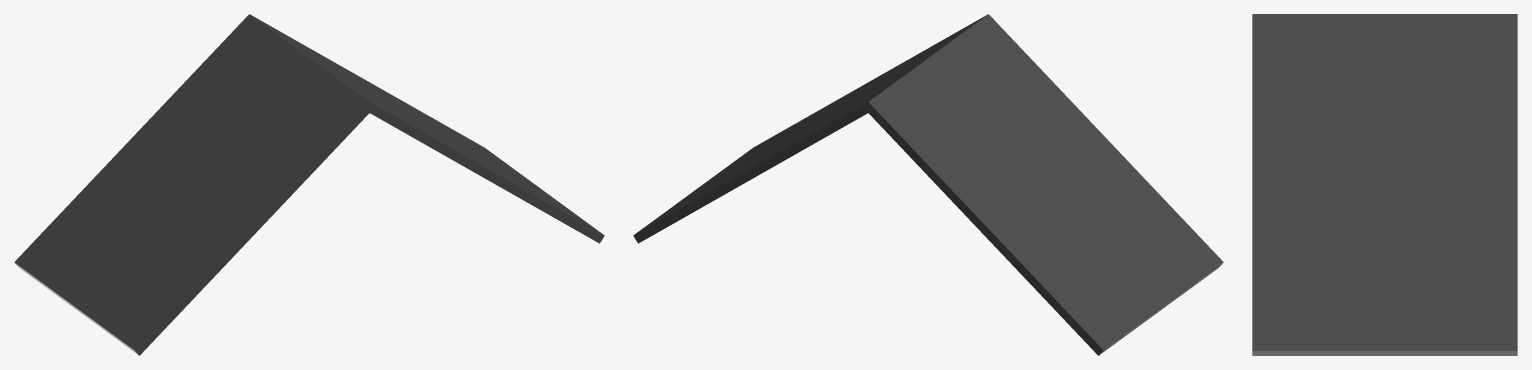
The model's file is Roof1_C3_01.fbx.
3 renders of one model, left to right at view 1: azimuth 30°, elevation 25°; view 2: azimuth 150°, elevation 25°; view 3: azimuth 270°, elevation 25°, orthographic. The views are drawn at different scales.
Visible parts, largest first — view 1: Roof1_C3_01; view 2: Roof1_C3_01; view 3: Roof1_C3_01.
Part boxes in pixels (x1,y1,x2,y2): Roof1_C3_01: (14,14,604,355); Roof1_C3_01: (633,14,1223,355); Roof1_C3_01: (1252,14,1517,355).
Size of the model in its own units: 565 by 227 by 250.
